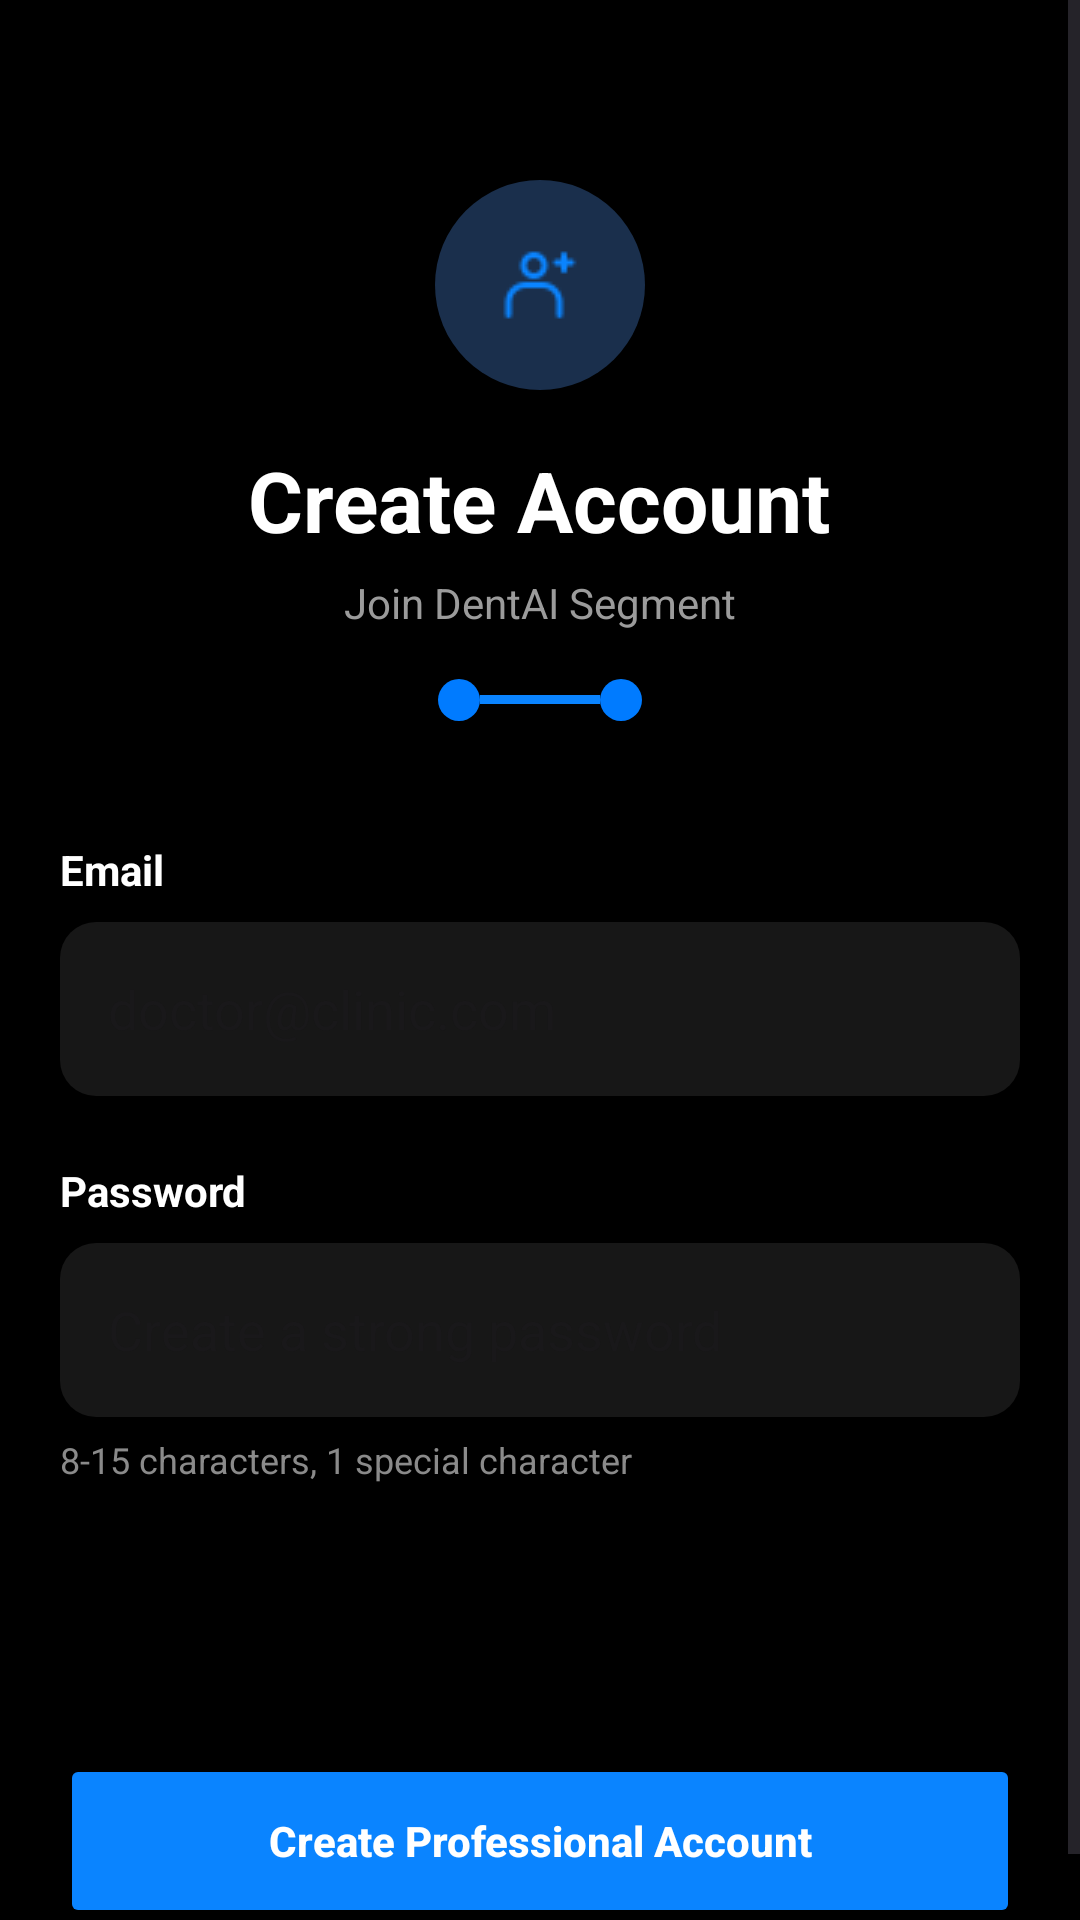

Locate icon controls on the screen. Image size 1080w x 1920h, boxes as (x1,y1,x2,y2).
add friend: (503,251,576,319)
